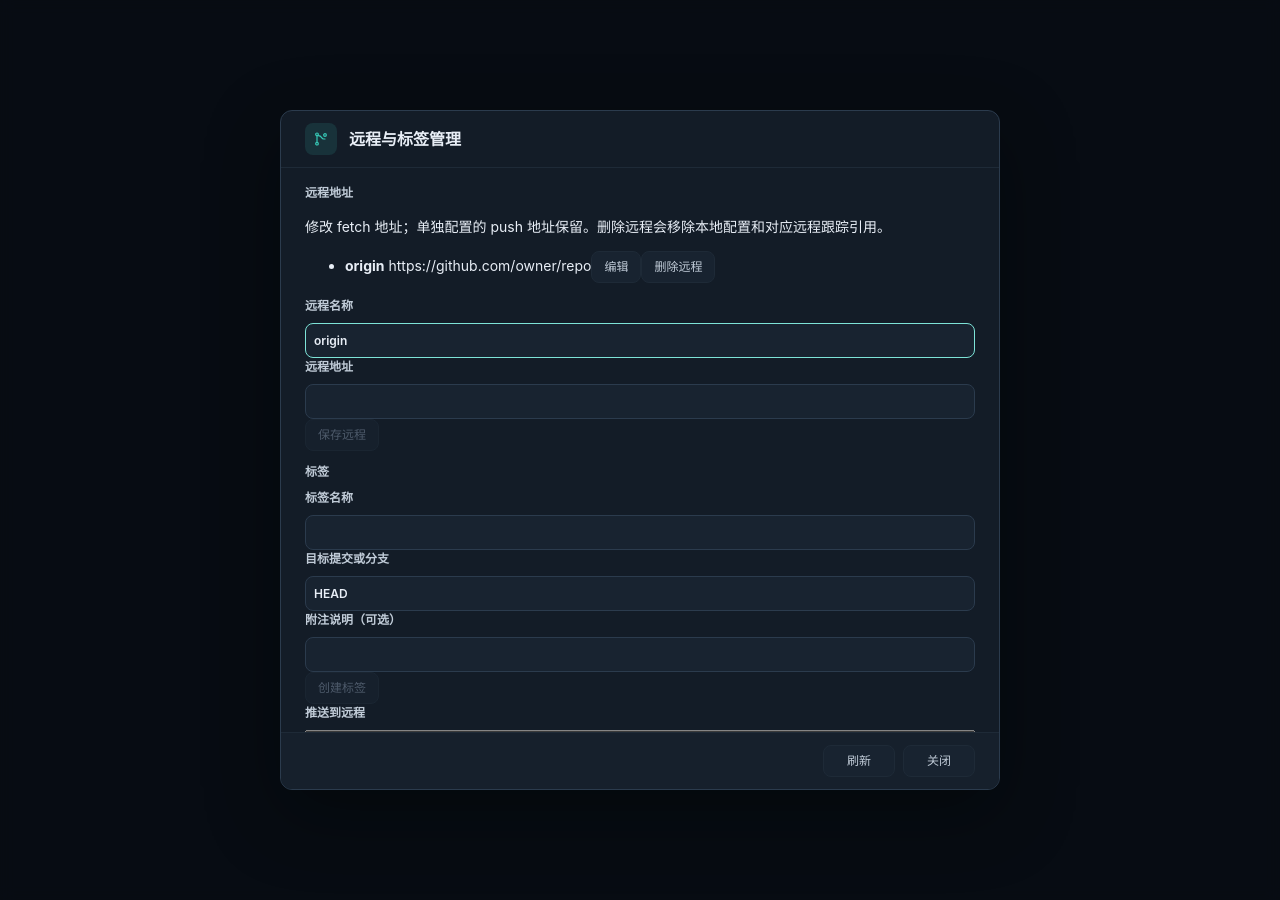
Test case: Repository management dialogs › keeps remote deletion cancellable and shows the selected target
The image size is (1280, 900).
Click the button "删除远程" at x=678, y=267, box [642,251,716,283]
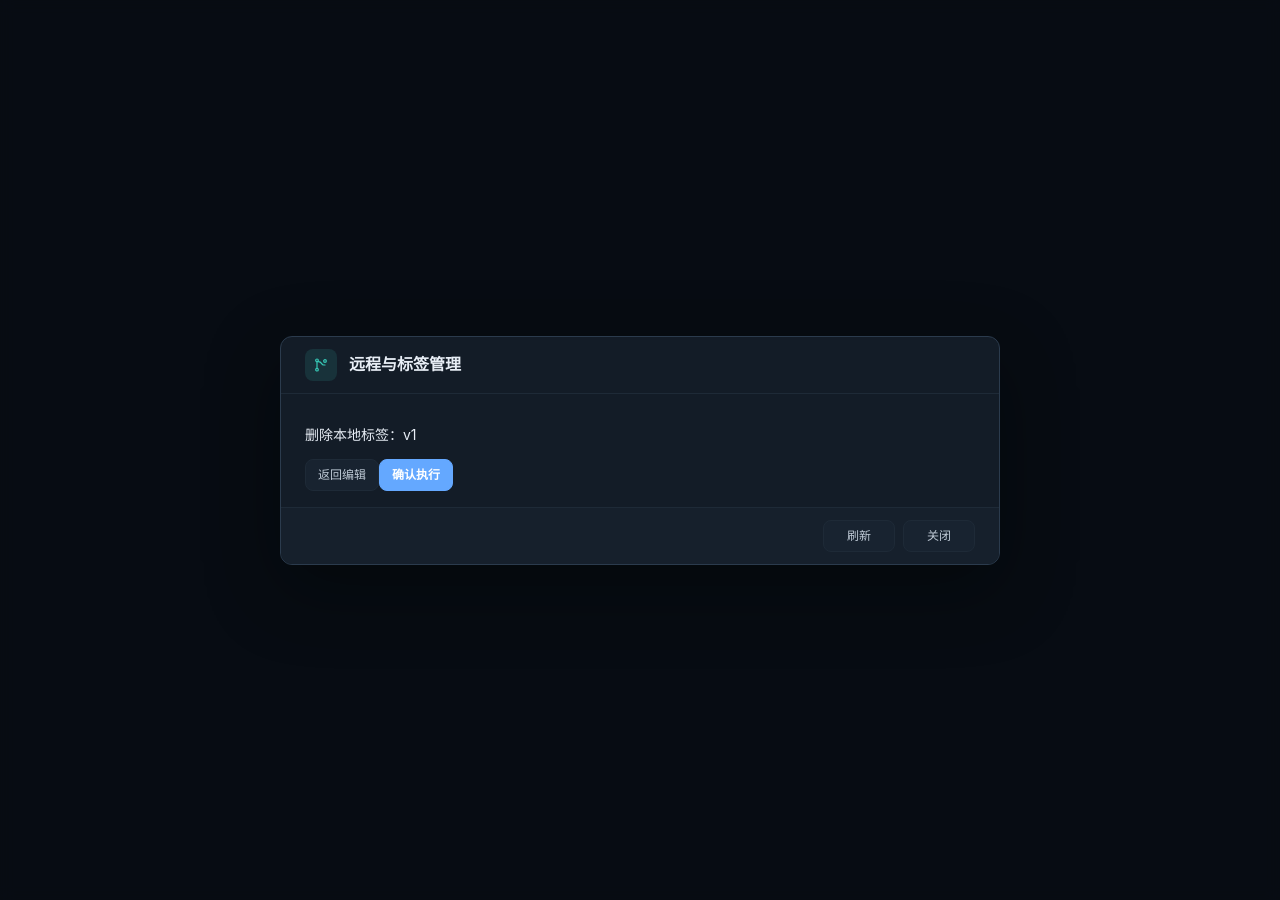
Click the button "返回编辑" at x=342, y=474, box [305,458,379,490]
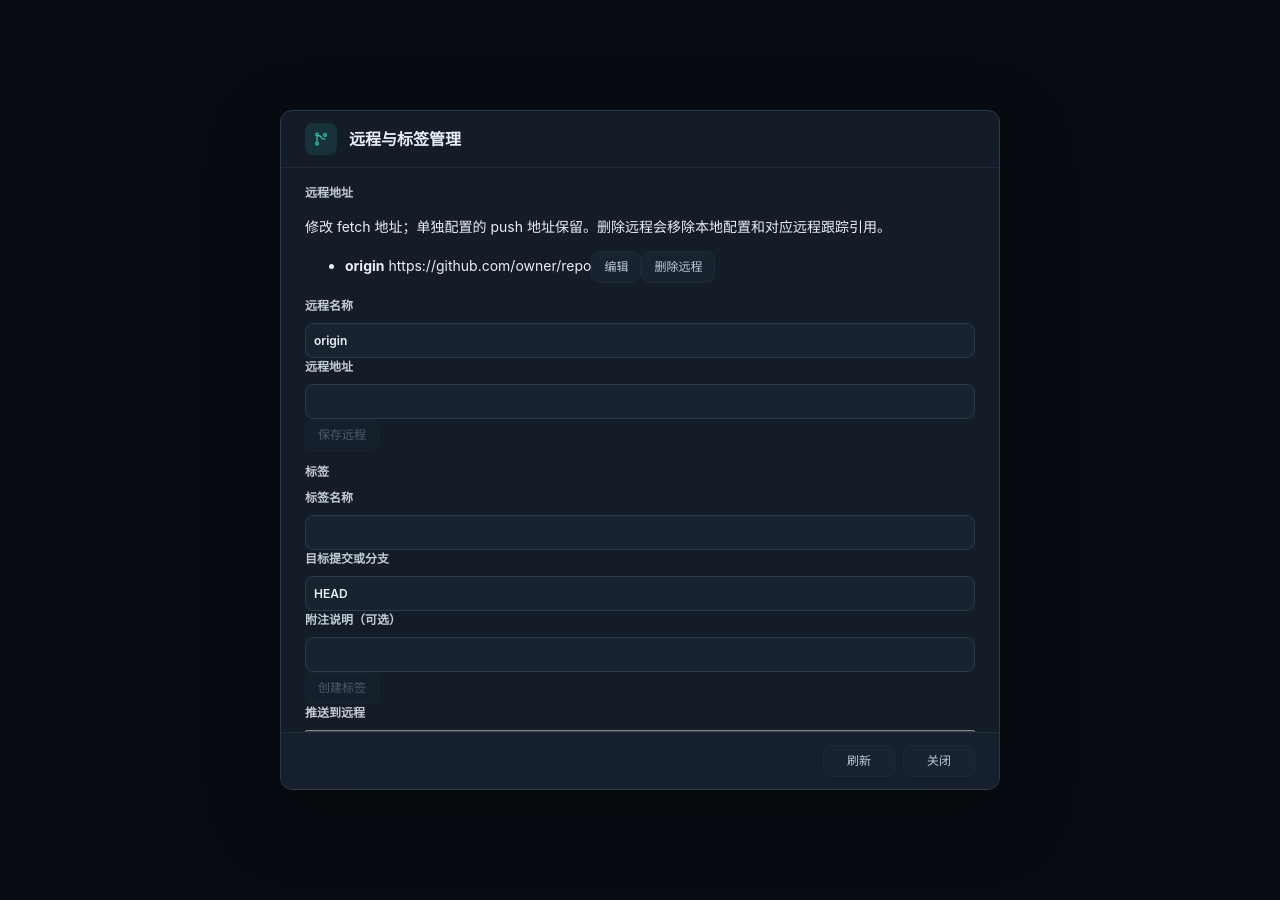
Now the field with id "manage-remote-name" is shown, box [306,324,974,357]
